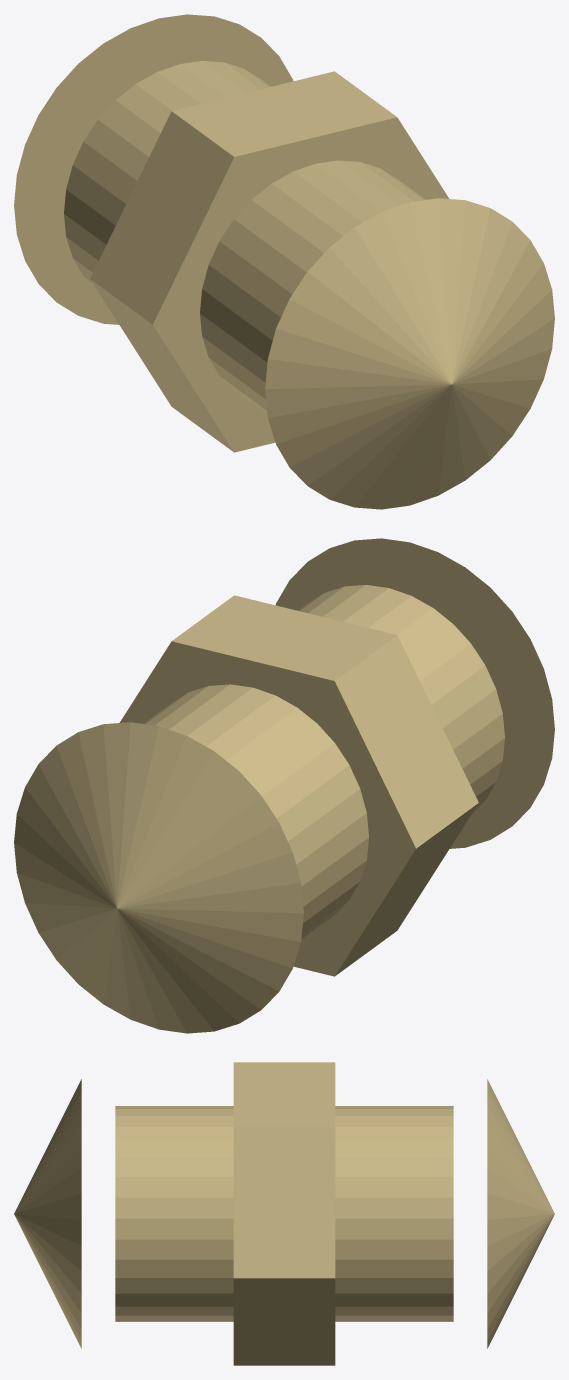
The picture shows the model from 3 angles, top to bottom: view 1: azimuth 30°, elevation 25°; view 2: azimuth 150°, elevation 25°; view 3: azimuth 270°, elevation 25°; orthographic projection. The views are drawn at different scales.
Visible parts, largest first — view 1: world; view 2: world; view 3: world.
Boxes of the visible parts, x1,y1,x2,y2 form: world: (14,14,554,509); world: (14,538,554,1033); world: (14,1062,554,1365).
Bounding box in the file's own units: 0.9 × 0.8 × 1.6.
